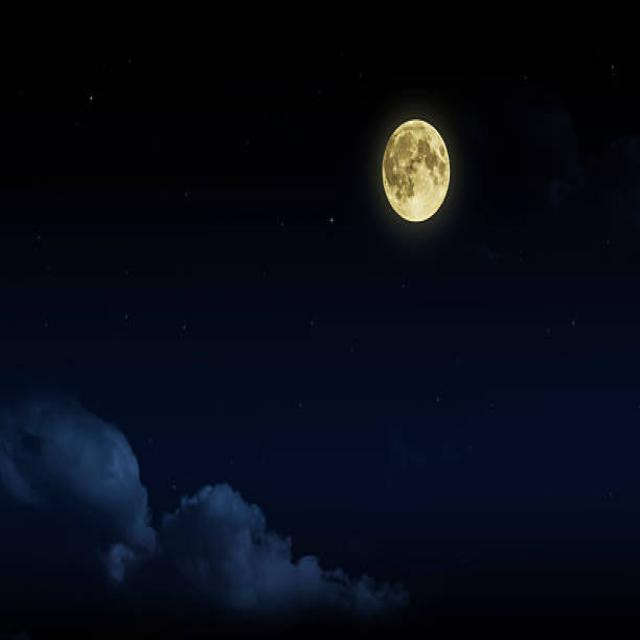moon: (376, 118, 450, 220)
